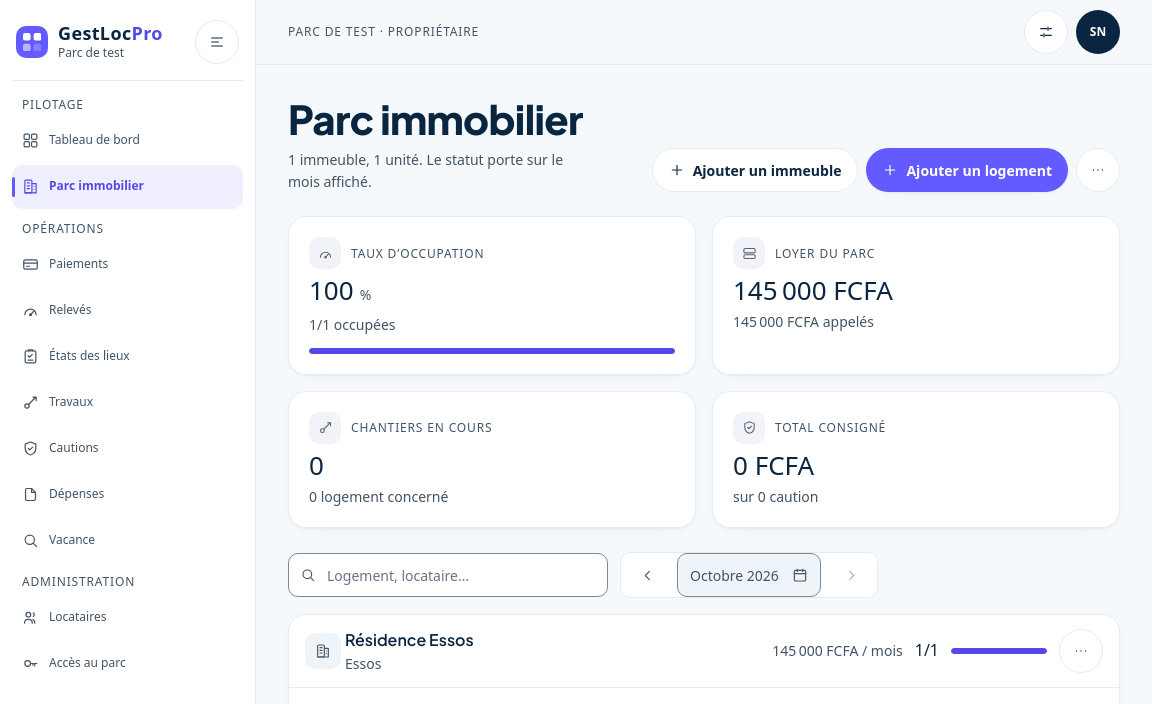
Test: l’ajout d’un immeuble › attend la réponse avant de se fermer
Click the button "Ajouter un immeuble".
click(755, 170)  # box [652, 148, 858, 192]
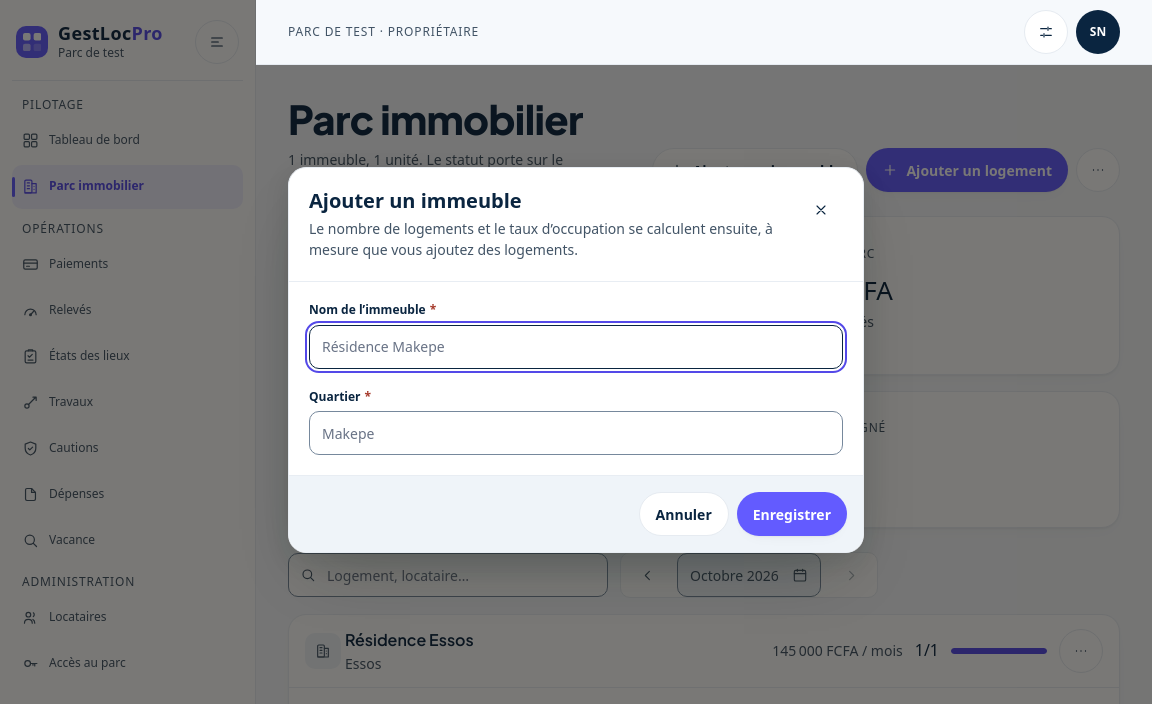
Type "Villa Bastos" into the field labelled "Nom de l’immeuble*".
click(576, 347); type("Villa Bastos")  # box [309, 325, 843, 369]
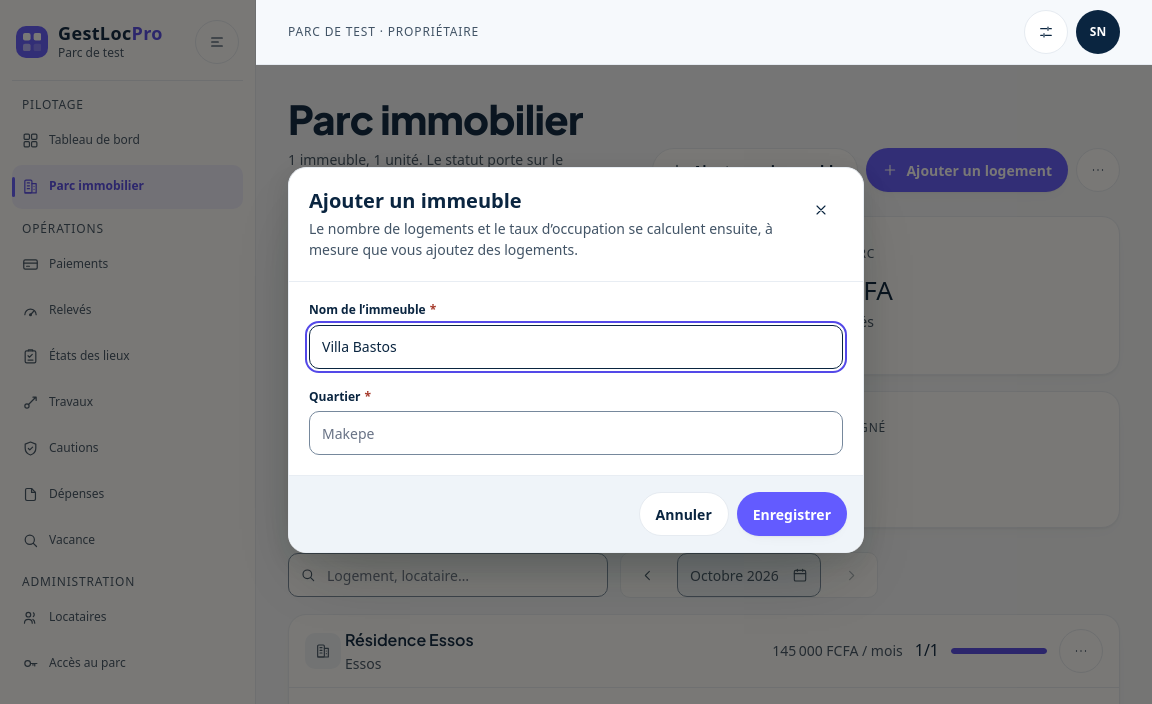
Type "Bastos" into the field labelled "Quartier*".
click(576, 434); type("Bastos")  # box [309, 412, 843, 456]
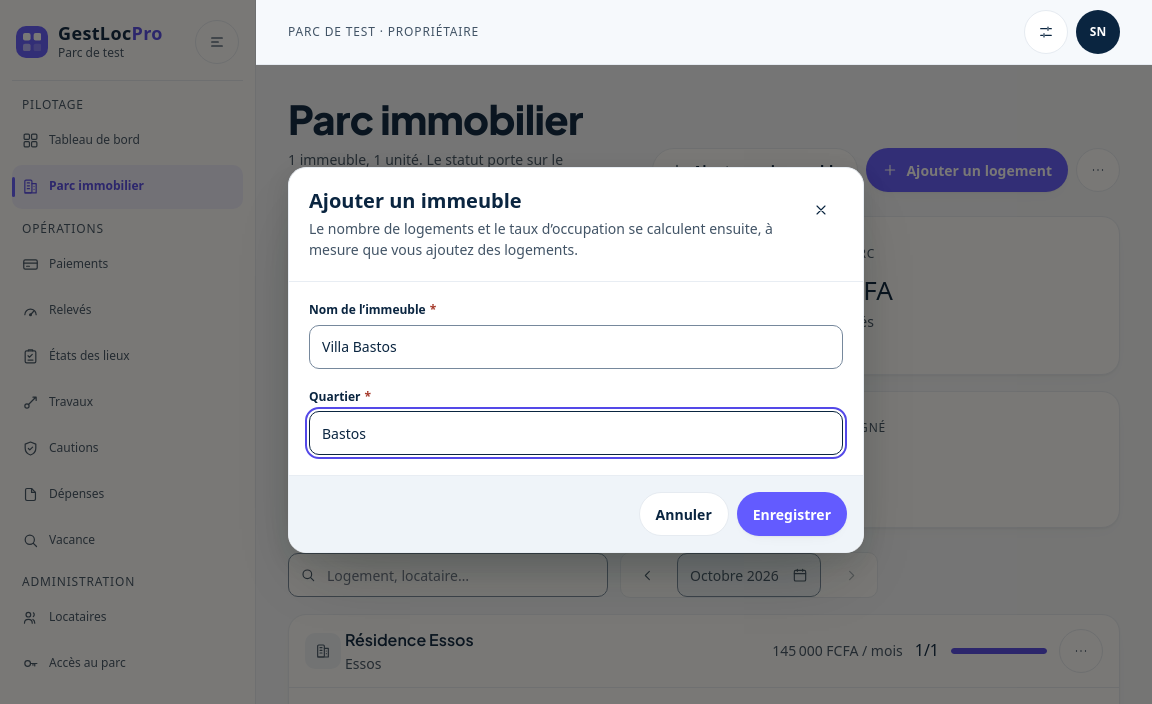
Click the button "Enregistrer".
click(792, 514)  # box [737, 492, 847, 536]
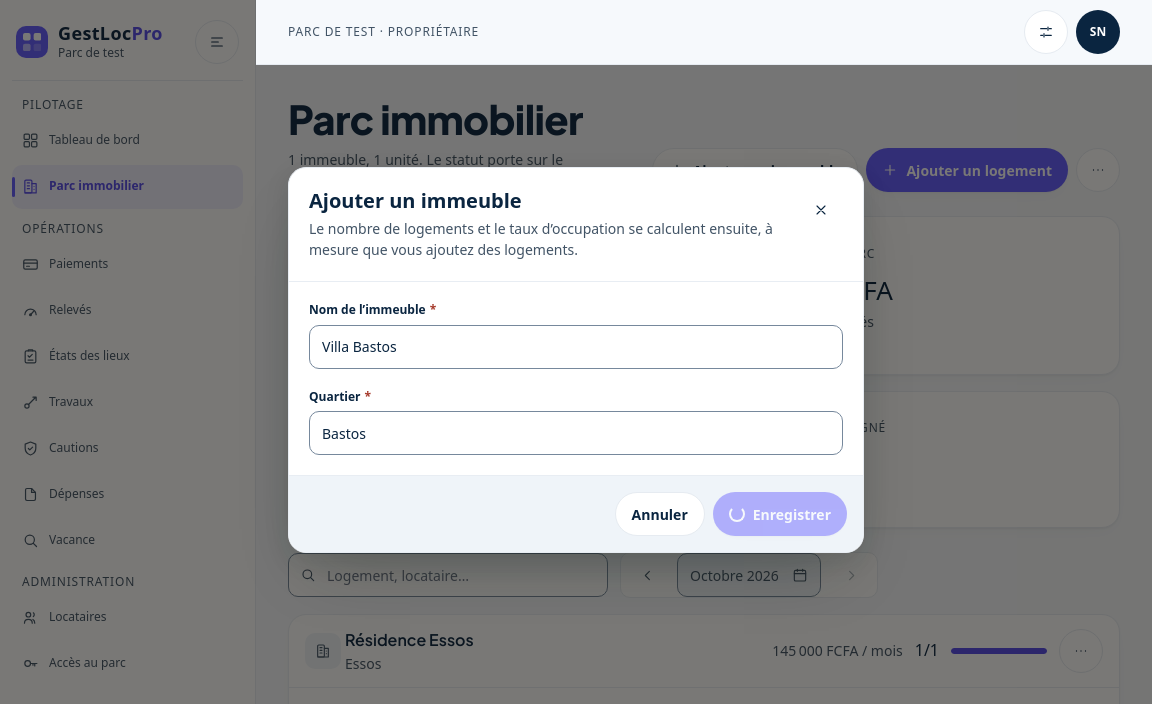
Result: the dialog is shown at [288, 166, 864, 554]
Click the button "Enregistrer".
click(780, 514)  # box [713, 492, 847, 536]
(page scrolled)
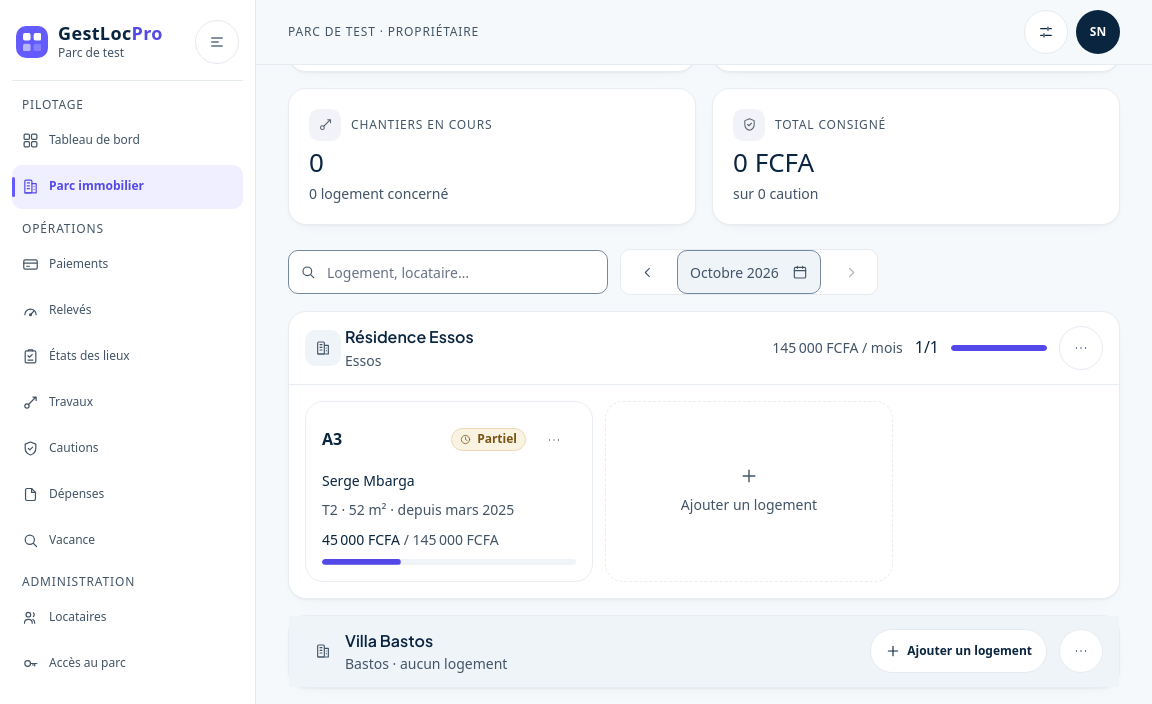
Result: the dialog is gone
Result: the heading "Villa Bastos" is shown at [345, 630, 433, 651]
